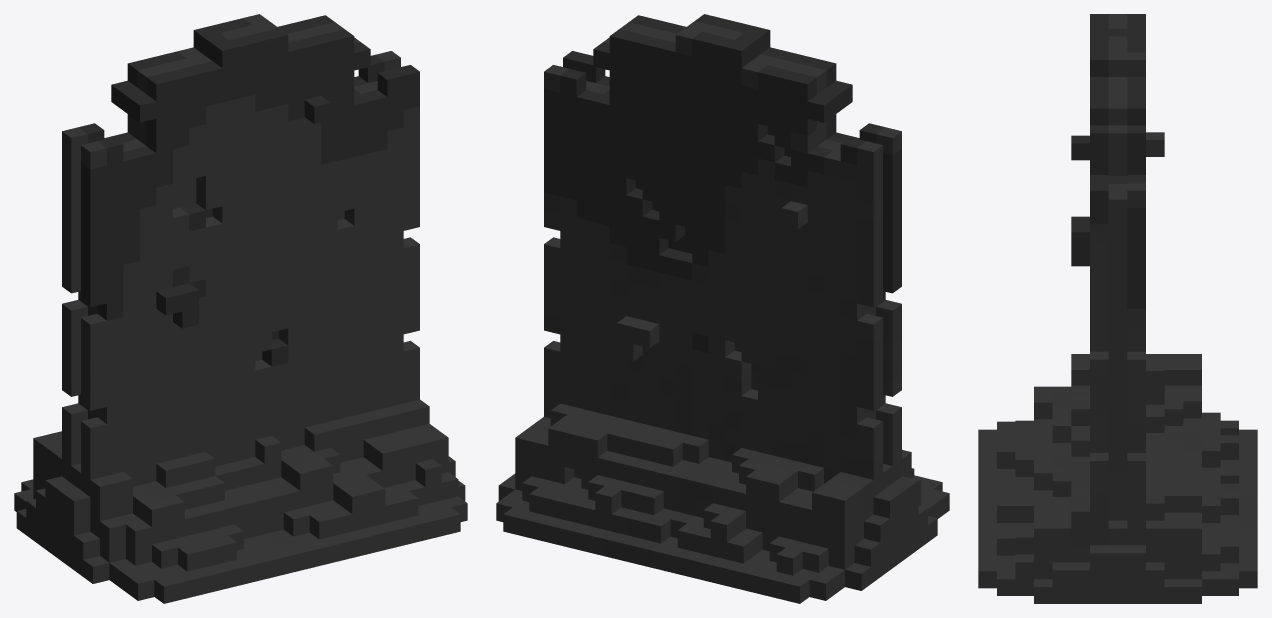
File: decoratedstone.glb
3 renders of one model, left to right at view 1: azimuth 30°, elevation 25°; view 2: azimuth 150°, elevation 25°; view 3: azimuth 270°, elevation 25°, orthographic. The views are drawn at different scales.
Visible parts, largest first — view 1: Untitled; view 2: Untitled; view 3: Untitled.
Boxes of the visible parts, x1,y1,x2,y2 form: Untitled: (14,14,467,603); Untitled: (496,14,949,603); Untitled: (978,14,1257,603).
Bounding box in the file's own units: 2.2 × 2.8 × 1.5.
Materials: 1 (1 with a texture image).
